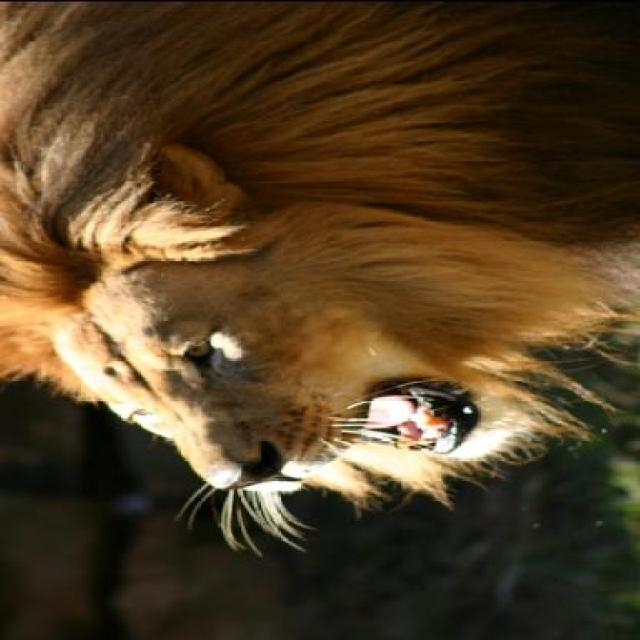Lion: (4, 1, 638, 552)
